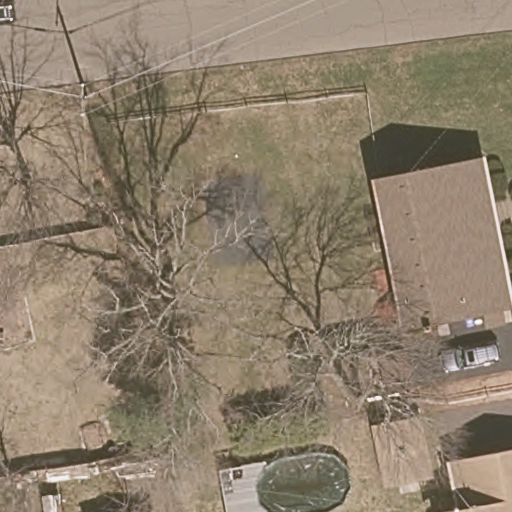DT: (78, 82, 86, 117)
